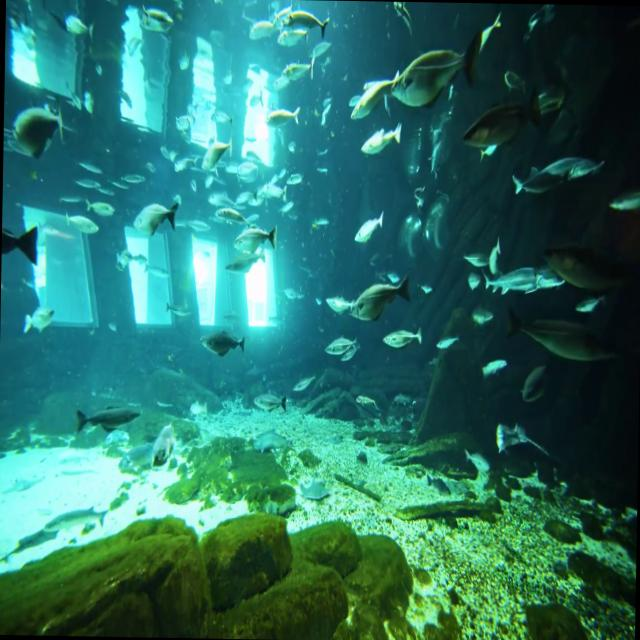fish: (500, 299, 618, 372), (394, 19, 484, 111), (344, 252, 424, 330), (456, 74, 521, 165), (68, 383, 150, 455), (474, 253, 564, 310), (3, 86, 67, 162), (339, 61, 395, 142), (1, 210, 64, 280), (354, 106, 412, 163), (489, 411, 546, 465), (194, 318, 250, 372), (131, 0, 184, 47), (260, 87, 306, 140), (270, 4, 327, 46), (130, 191, 182, 237), (560, 139, 605, 189), (503, 165, 558, 200), (349, 207, 389, 254), (196, 126, 232, 176), (233, 214, 279, 252), (212, 245, 264, 278), (383, 324, 428, 354), (316, 336, 354, 356)
